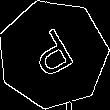P_SE: (25, 23, 82, 85)
